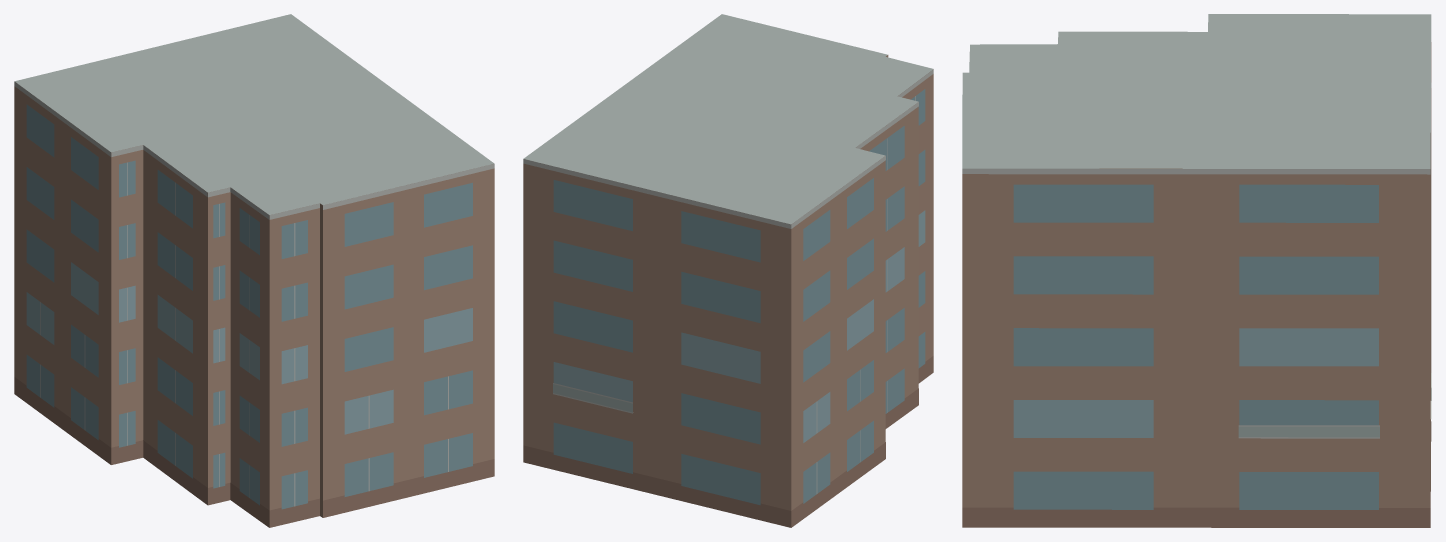
The model's file is survey-upis-32490445.glb.
The picture shows the model from 3 angles, left to right: view 1: azimuth 30°, elevation 25°; view 2: azimuth 150°, elevation 25°; view 3: azimuth 270°, elevation 25°; orthographic projection. The views are drawn at different scales.
Visible parts, largest first — view 1: survey-upis-32490445.tmp; view 2: survey-upis-32490445.tmp; view 3: survey-upis-32490445.tmp.
Part boxes in pixels (box(x1,y1,x2,y2)): survey-upis-32490445.tmp: box(14, 14, 494, 527); survey-upis-32490445.tmp: box(523, 14, 933, 527); survey-upis-32490445.tmp: box(962, 14, 1431, 527).
Size of the model in its own units: 14.76 by 15.9 by 18.86.
